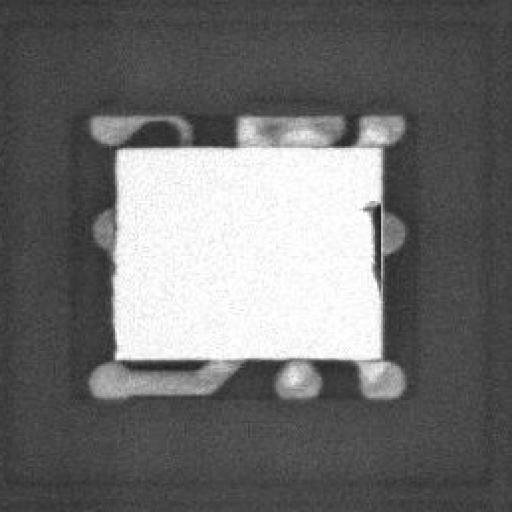DIE_BROKEN: (361, 195, 381, 296)
